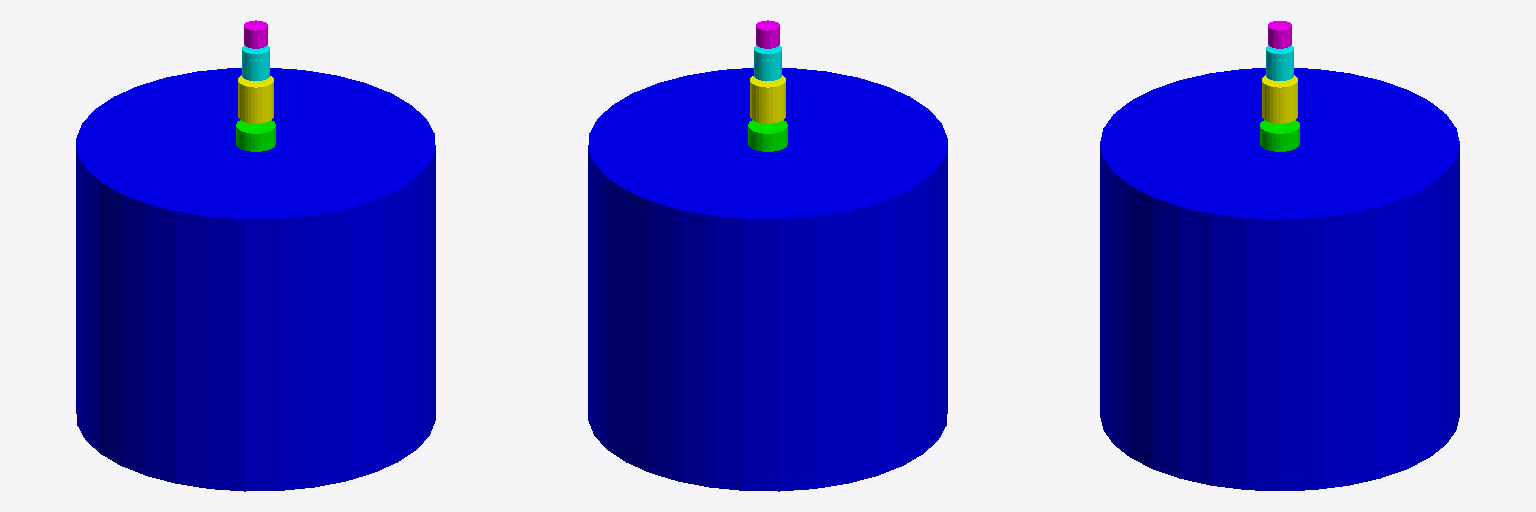
URDF robot description (six_axis_robot):
<?xml version="1.0"?>
<robot name="six_axis_robot">
  
  <!-- Base Link -->
  <link name="base_link"/>
  
  <!-- Links and Joints -->
  <joint name="joint1" type="revolute">
    <parent link="base_link"/>
    <child link="link1"/>
    <origin xyz="0 0 0.3" rpy="0 0 0"/>
    <axis xyz="0 0 1"/>
    <limit lower="-3.14" upper="3.14" effort="100" velocity="1.0"/>
  </joint>
  <link name="link1">
    <visual>
      <geometry>
        <cylinder radius="0.9" length="1.5"/> <!-- Dickerer Arm -->
      </geometry>
      <material name="blue">
        <color rgba="0 0 1 1"/>
      </material>
    </visual>
  </link>
  
  <joint name="joint2" type="revolute">
    <parent link="link1"/>
    <child link="link2"/>
    <origin xyz="0 0 0.3" rpy="0 0 0"/>
    <axis xyz="0 1 0"/>
    <limit lower="-3.14" upper="3.14" effort="100" velocity="1.0"/>
  </joint>
  <link name="link2">
    <visual>
      <geometry>
        <cylinder radius="0.12" length="0.4"/> <!-- Dickerer Arm -->
      </geometry>
      <material name="red">
        <color rgba="1 0 0 1"/>
      </material>
    </visual>
  </link>
  
  <joint name="joint3" type="revolute">
    <parent link="link2"/>
    <child link="link3"/>
    <origin xyz="0 0 0.4" rpy="0 0 0"/>
    <axis xyz="0 1 0"/>
    <limit lower="-3.14" upper="3.14" effort="100" velocity="1.0"/>
  </joint>
  <link name="link3">
    <visual>
      <geometry>
        <cylinder radius="0.1" length="0.3"/> <!-- Dickerer Arm -->
      </geometry>
      <material name="green">
        <color rgba="0 1 0 1"/>
      </material>
    </visual>
  </link>
  
  <joint name="joint4" type="revolute">
    <parent link="link3"/>
    <child link="link4"/>
    <origin xyz="0 0 0.3" rpy="0 0 0"/>
    <axis xyz="1 0 0"/>
    <limit lower="-3.14" upper="3.14" effort="100" velocity="1.0"/>
  </joint>
  <link name="link4">
    <visual>
      <geometry>
        <cylinder radius="0.09" length="0.2"/> <!-- Dickerer Arm -->
      </geometry>
      <material name="yellow">
        <color rgba="1 1 0 1"/>
      </material>
    </visual>
  </link>
  
  <joint name="joint5" type="revolute">
    <parent link="link4"/>
    <child link="link5"/>
    <origin xyz="0 0 0.2" rpy="0 0 0"/>
    <axis xyz="0 1 0"/>
    <limit lower="-3.14" upper="3.14" effort="100" velocity="1.0"/>
  </joint>
  <link name="link5">
    <visual>
      <geometry>
        <cylinder radius="0.07" length="0.15"/> <!-- Dickerer Arm -->
      </geometry>
      <material name="red">
        <color rgba="0 1 1 1"/>
      </material>
    </visual>
  </link>
  
  <joint name="joint6" type="revolute">
    <parent link="link5"/>
    <child link="link6"/>
    <origin xyz="0 0 0.15" rpy="0 0 0"/>
    <axis xyz="1 0 0"/>
    <limit lower="-3.14" upper="3.14" effort="100" velocity="1.0"/>
  </joint>
  <link name="link6">
    <visual>
      <geometry>
        <cylinder radius="0.06" length="0.1"/> <!-- Dickerer Arm -->
      </geometry>
      <material name="red">
        <color rgba="1 0 1 1"/>
      </material>
    </visual>
  </link>
  
</robot>

--- Render facts (derived) ---
3 views of the same robot in one strip: view 1: azimuth 30°, elevation 25°; view 2: azimuth 150°, elevation 25°; view 3: azimuth 270°, elevation 25° (orthographic).
Model six_axis_robot with 7 links and 6 joints (6 revolute), rooted at base_link, posed every joint at zero.
Links seen in each view (by area): view 1: link1, link4, link3, link5, link6; view 2: link1, link4, link3, link5, link6; view 3: link1, link4, link3, link5, link6.
Boxes of the visible links, <box> form: link1: <box>76,68,435,491</box>; link4: <box>238,75,273,123</box>; link3: <box>236,120,275,151</box>; link5: <box>242,45,269,80</box>; link6: <box>244,20,267,48</box>; link1: <box>588,68,947,491</box>; link4: <box>750,75,785,123</box>; link3: <box>748,120,787,151</box>; link5: <box>754,45,781,80</box>; link6: <box>756,20,779,48</box>; link1: <box>1100,68,1459,490</box>; link4: <box>1262,75,1297,123</box>; link3: <box>1260,120,1299,151</box>; link5: <box>1266,45,1293,80</box>; link6: <box>1268,21,1291,48</box>.
Bounding box of the posed robot: 1.8 × 1.8 × 2.15 m (x, y, z).
Geometry: primitives only (box / cylinder / sphere), no mesh files.